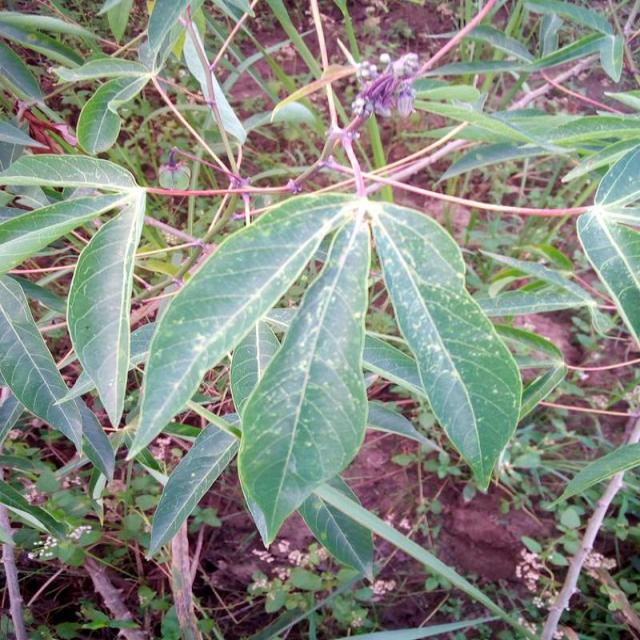cassava leaf: (128, 186, 522, 568), (125, 189, 358, 462), (235, 212, 371, 548), (370, 198, 523, 493), (0, 273, 115, 482), (64, 185, 146, 428), (146, 411, 240, 560)
